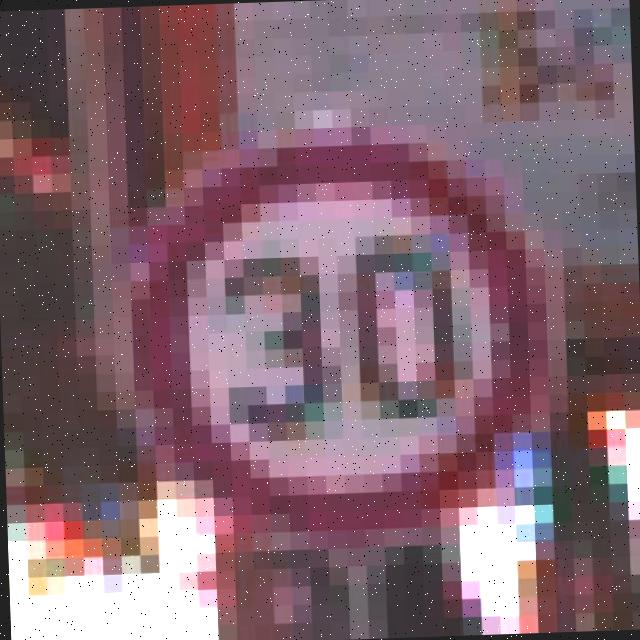Ograniczenie predkosci do 30: (122, 132, 552, 536)
